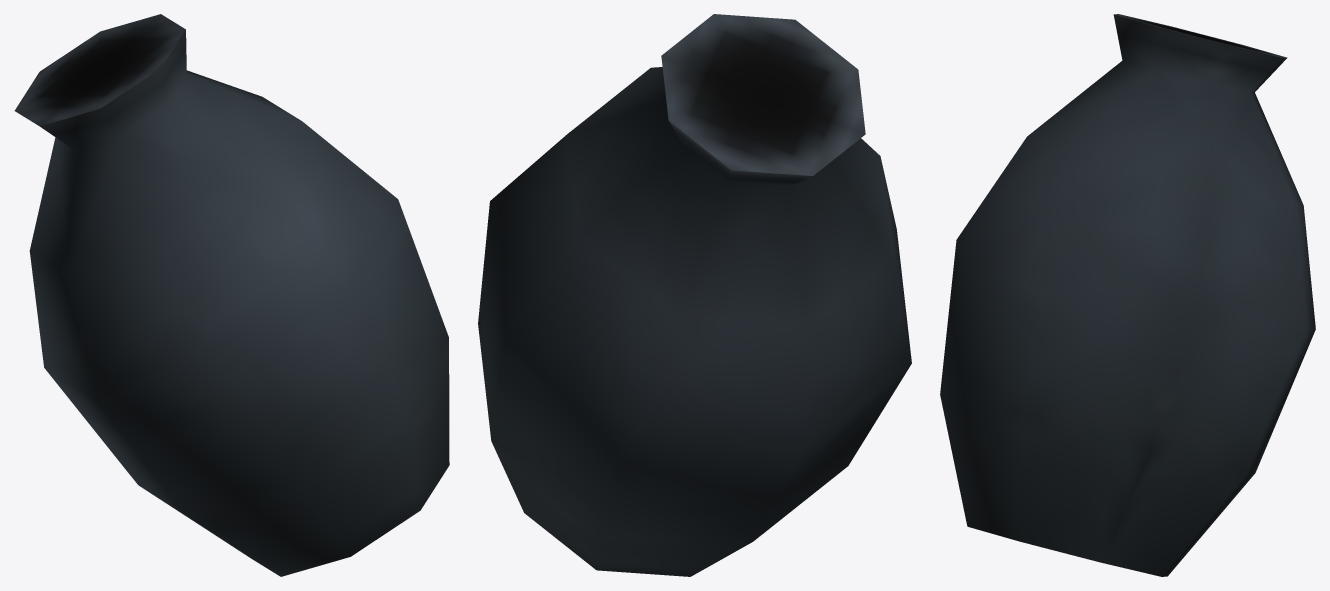
The model's file is Area05_10.fbx.
The picture shows the model from 3 angles, left to right: view 1: azimuth 30°, elevation 25°; view 2: azimuth 150°, elevation 25°; view 3: azimuth 270°, elevation 25°; orthographic projection. The views are drawn at different scales.
Parts seen in each view (by area): view 1: Area05_10; view 2: Area05_10; view 3: Area05_10.
Part boxes in pixels (box(x1,y1,x2,y2)): Area05_10: box(14, 14, 449, 576); Area05_10: box(478, 14, 911, 576); Area05_10: box(940, 14, 1315, 576).
Bounding box in the file's own units: 40.21 × 57.01 × 37.84.
